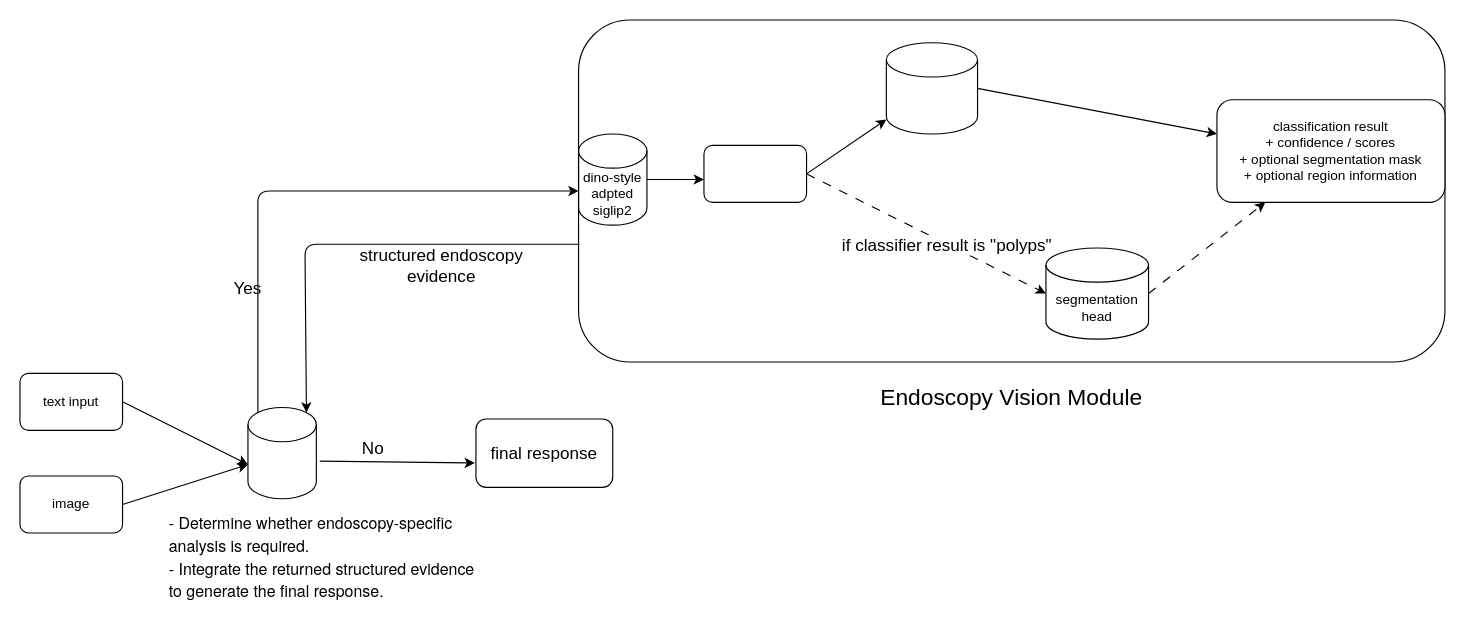
Image size: 1465x633. Some labels were removed from this diagram. Here are the shapes that lost their labels. From the top down, the centre of each, then its label:
At (x=931, y=88): "classification head".
At (x=755, y=173): "visual representation".
At (x=281, y=452): "general purpose vlm".
